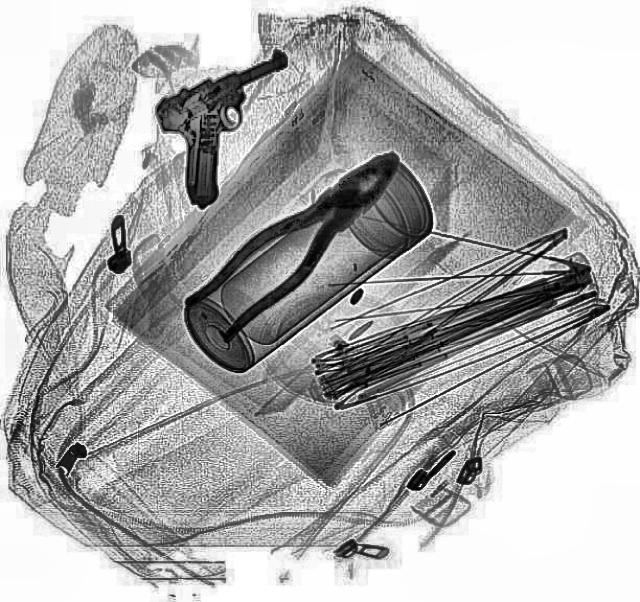Gun: (134, 44, 342, 212)
Pliers: (174, 131, 422, 347)
